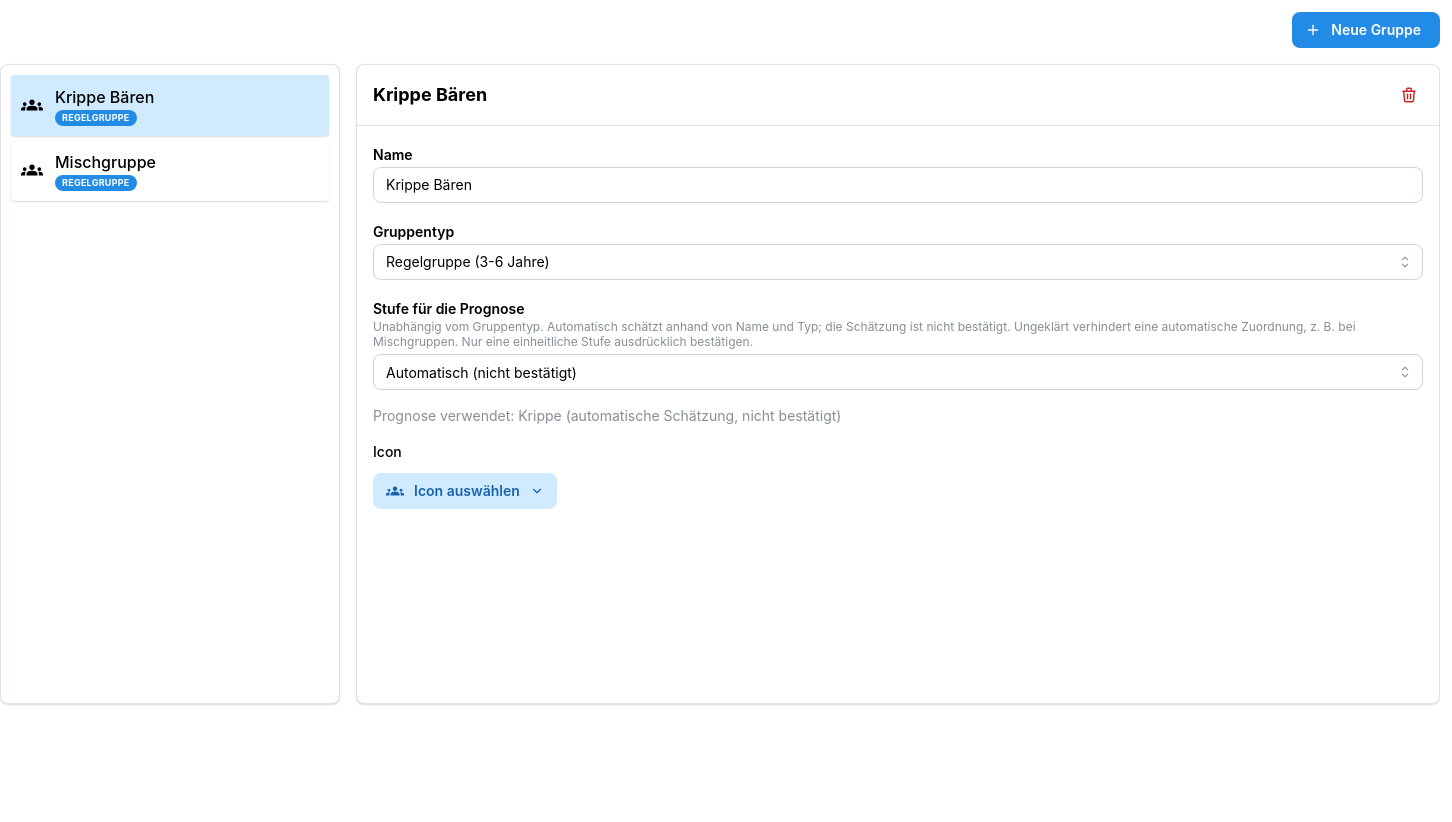
it: forecast stage group editor › updates an existing group overlay without changing the underlying groups
The width and height of the screenshot is (1452, 822).
What coordinates should you click on to do the following:
click the dropdown labelled "Stufe für die Prognose"
I would click on:
 (898, 372)
Its box is [373,354,1423,390].
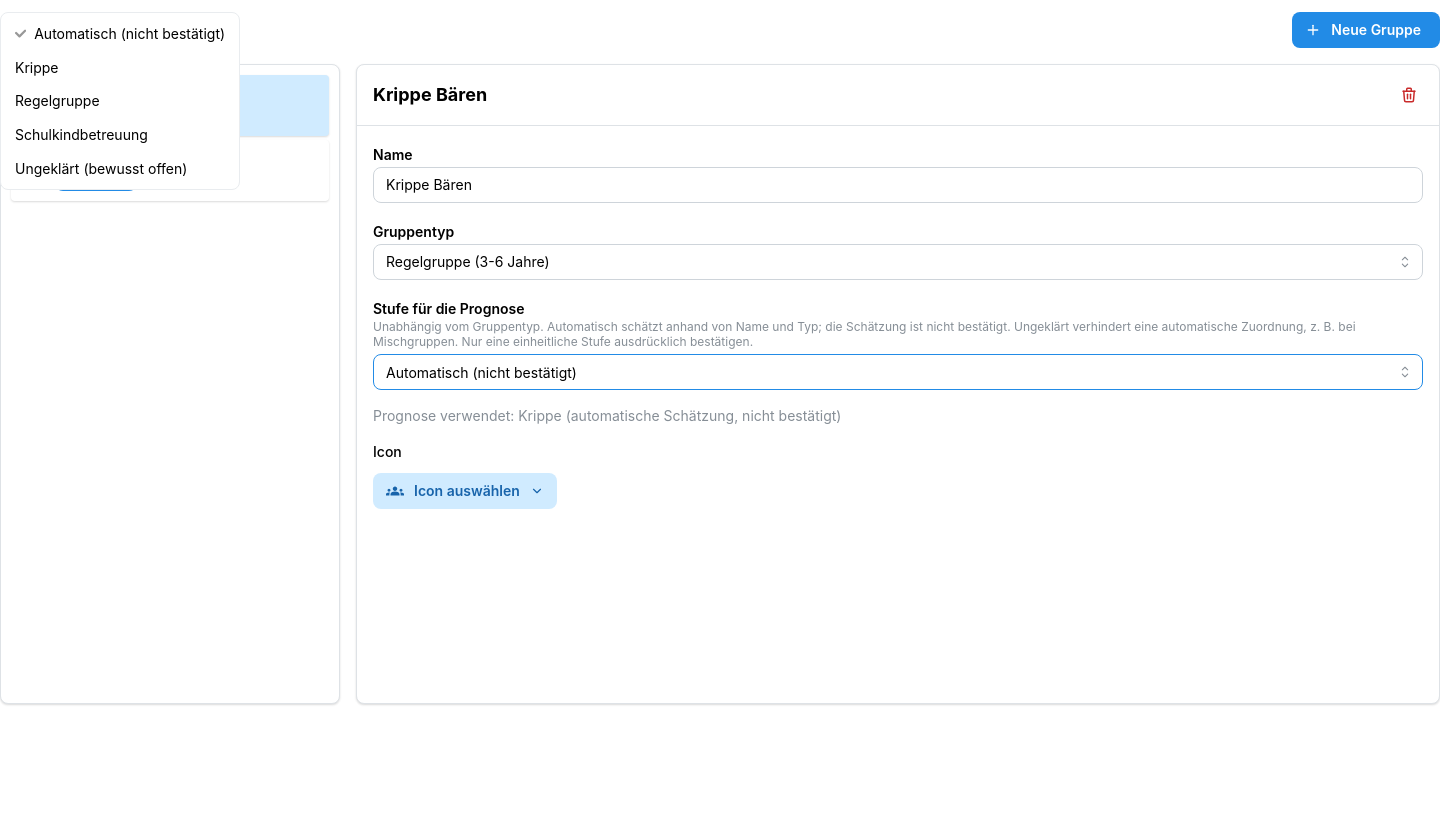
What coordinates should you click on to do the following:
click the option "Krippe"
I would click on:
 (37, 67)
Its box is [15,59,58,76].
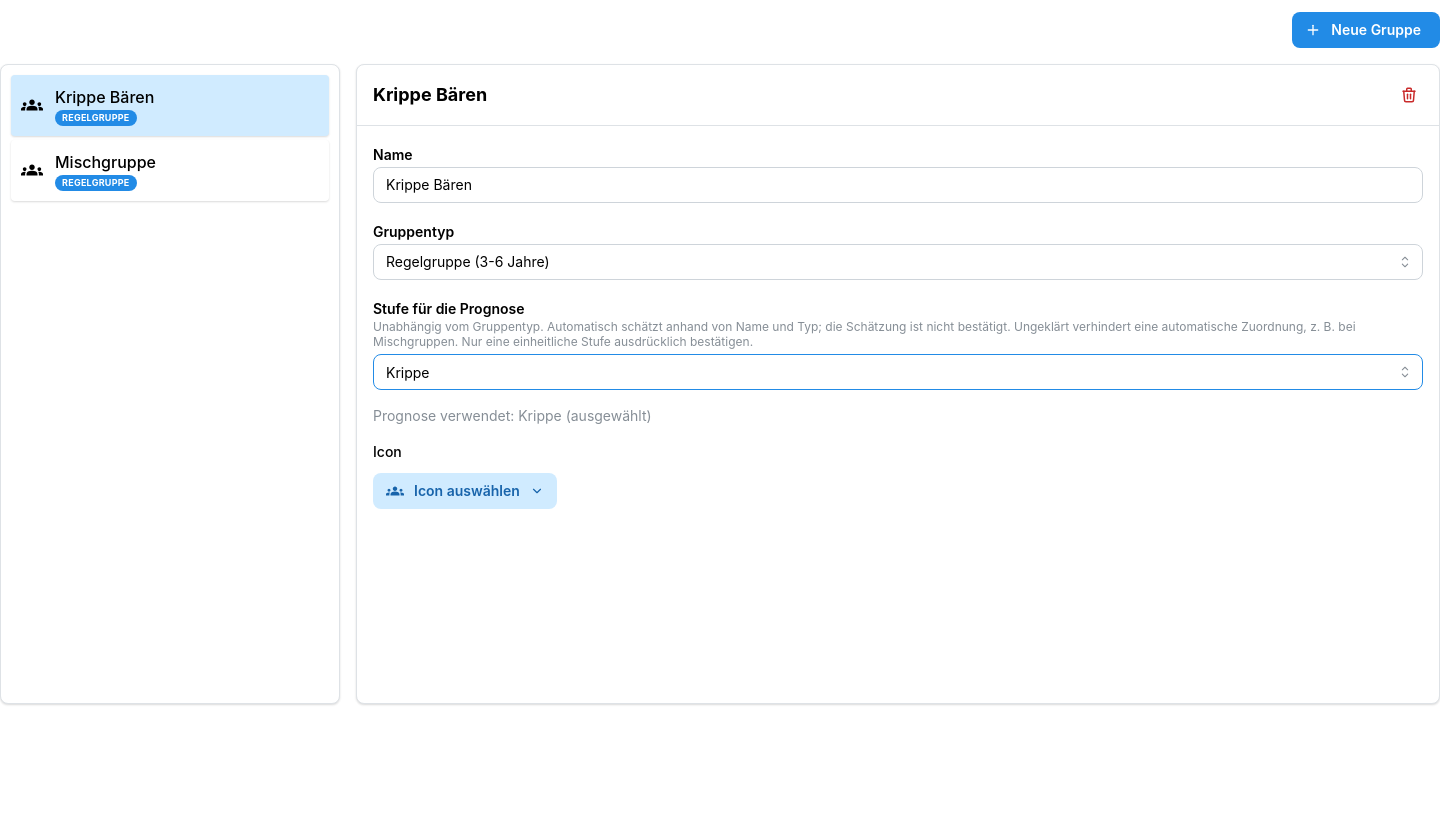
Result: the text "Prognose verwendet: Krippe (ausgewählt)" is shown at [373,407,652,424]
